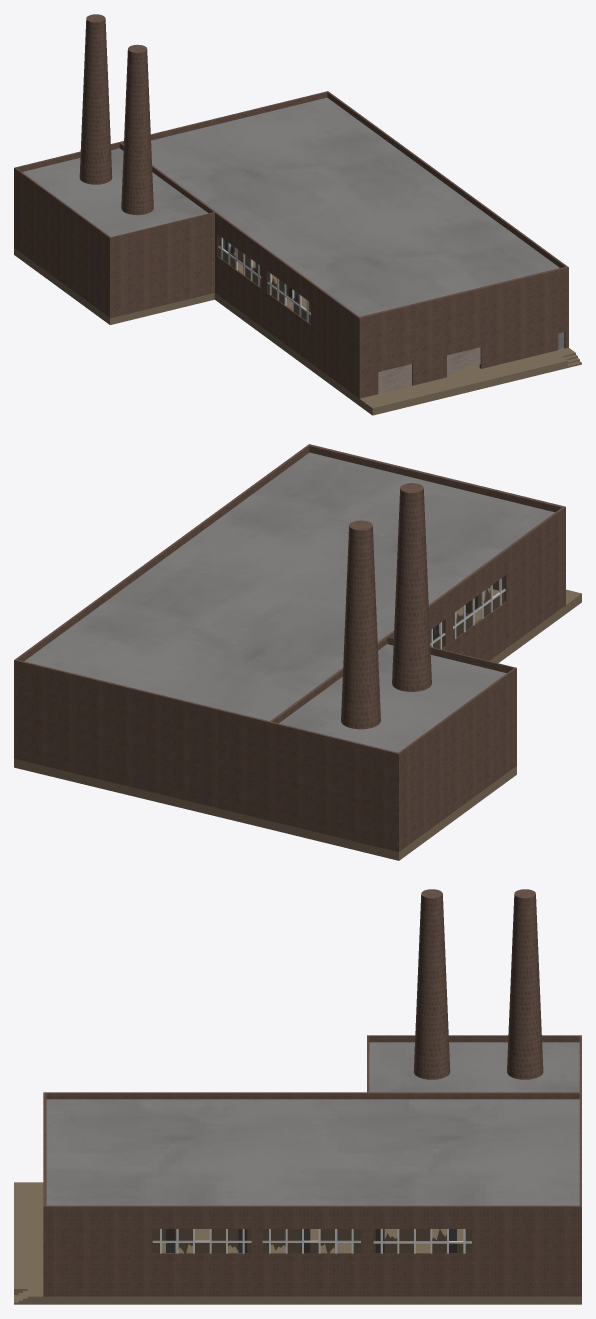
Rendered from factory.FBX.
3 renders of one model, top to bottom at view 1: azimuth 30°, elevation 25°; view 2: azimuth 150°, elevation 25°; view 3: azimuth 270°, elevation 25°, orthographic. The views are drawn at different scales.
Visible parts, largest first — view 1: factory, roof, floor, roof001, pipe2, pipe1, rollupgate, window001, window002, rollupgate1; view 2: factory, roof, roof001, pipe2, pipe1, floor, window002, window frames002; view 3: roof, factory, floor, roof001, pipe2, pipe1, window005, window004, window003, window frames003, window frames004, window frames005.
Boxes of the visible parts, left/top/right/bottom form: factory: left=14, top=91, right=568, bottom=398; roof: left=151, top=97, right=559, bottom=316; floor: left=14, top=237, right=581, bottom=415; roof001: left=22, top=148, right=207, bottom=236; pipe2: left=121, top=44, right=153, bottom=215; pipe1: left=79, top=14, right=112, bottom=184; rollupgate: left=378, top=364, right=411, bottom=393; window001: left=218, top=235, right=261, bottom=287; window002: left=267, top=271, right=310, bottom=324; rollupgate1: left=447, top=347, right=480, bottom=375; factory: left=14, top=444, right=565, bottom=852; roof: left=24, top=452, right=554, bottom=721; roof001: left=279, top=644, right=506, bottom=752; pipe2: left=392, top=483, right=431, bottom=691; pipe1: left=341, top=520, right=380, bottom=729; floor: left=14, top=588, right=581, bottom=860; window002: left=453, top=575, right=505, bottom=639; window frames002: left=453, top=578, right=505, bottom=638; roof: left=46, top=1099, right=579, bottom=1205; factory: left=43, top=1035, right=581, bottom=1296; floor: left=14, top=1182, right=581, bottom=1304; roof001: left=369, top=1042, right=579, bottom=1092; pipe2: left=413, top=889, right=450, bottom=1079; pipe1: left=507, top=889, right=543, bottom=1079; window005: left=151, top=1229, right=251, bottom=1253; window004: left=262, top=1229, right=361, bottom=1253; window003: left=373, top=1229, right=471, bottom=1253; window frames003: left=373, top=1229, right=471, bottom=1253; window frames004: left=262, top=1229, right=360, bottom=1253; window frames005: left=152, top=1229, right=251, bottom=1253.
Size of the model in its own units: 45 by 33.1 by 63.
